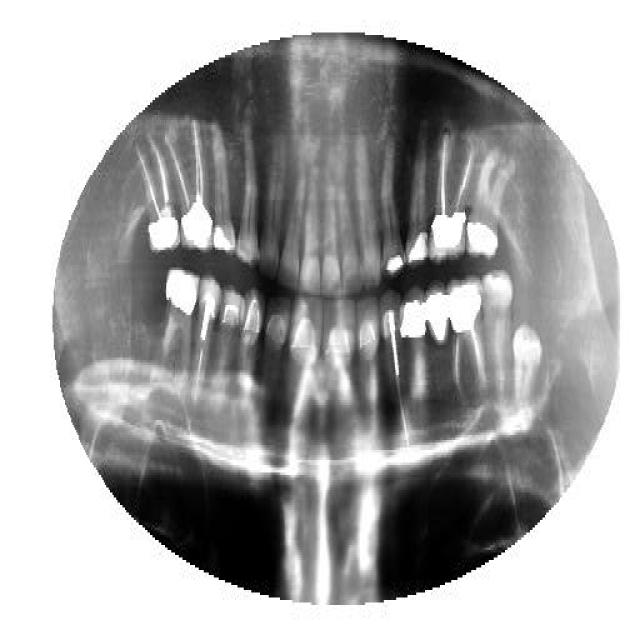Fillings: (466, 148, 515, 262), (161, 260, 199, 375), (212, 125, 238, 263), (380, 137, 405, 275), (407, 132, 428, 270), (400, 285, 426, 355), (425, 282, 450, 350)
Implant: (165, 120, 213, 258), (430, 130, 475, 265), (135, 133, 181, 255), (448, 273, 487, 405), (382, 287, 412, 455), (192, 275, 222, 407)
